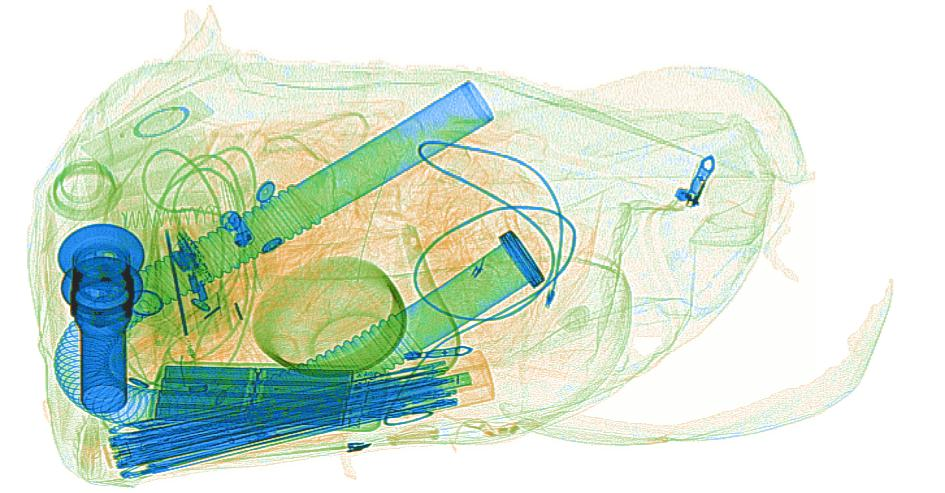battery: (146, 358, 392, 434)
